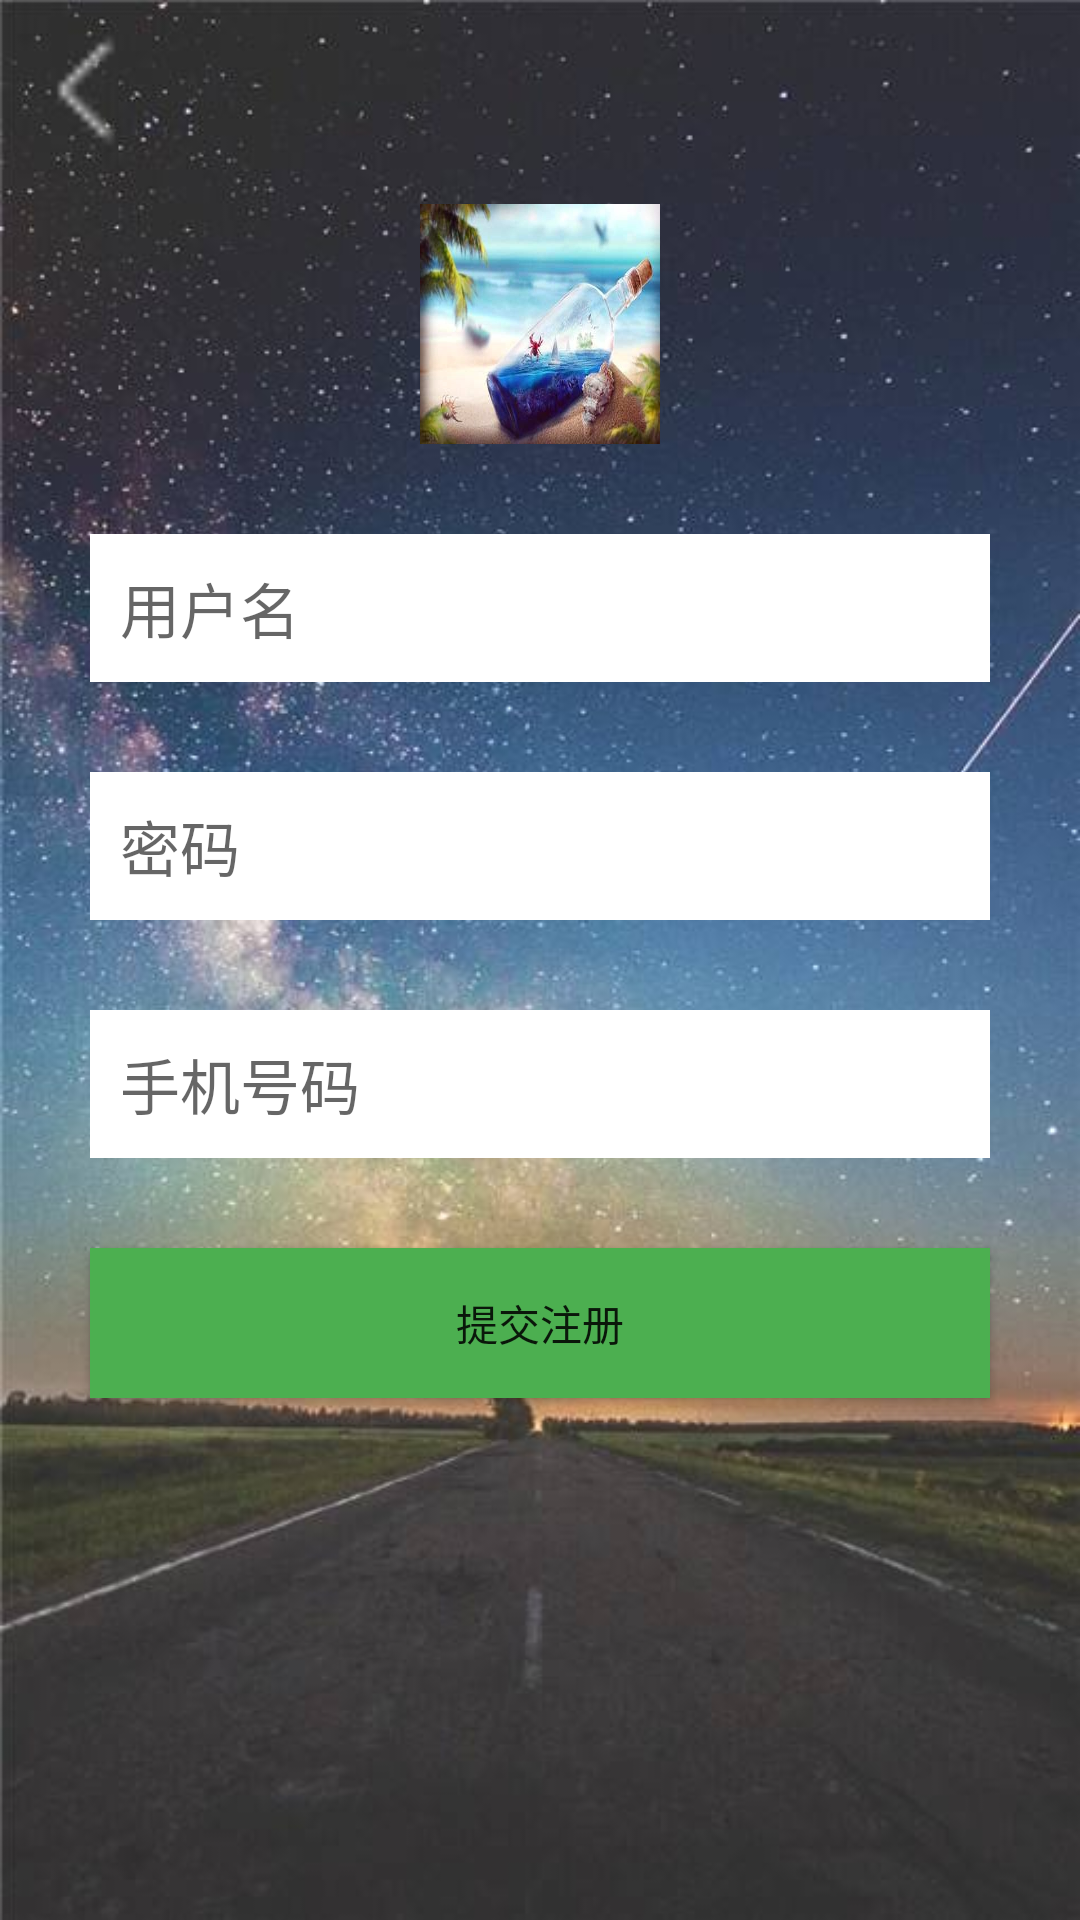

Where icons sit on this 1080px x 1920px app screen, as box=[x1, y1, x2, y2]:
return: box=[30, 31, 150, 150]
